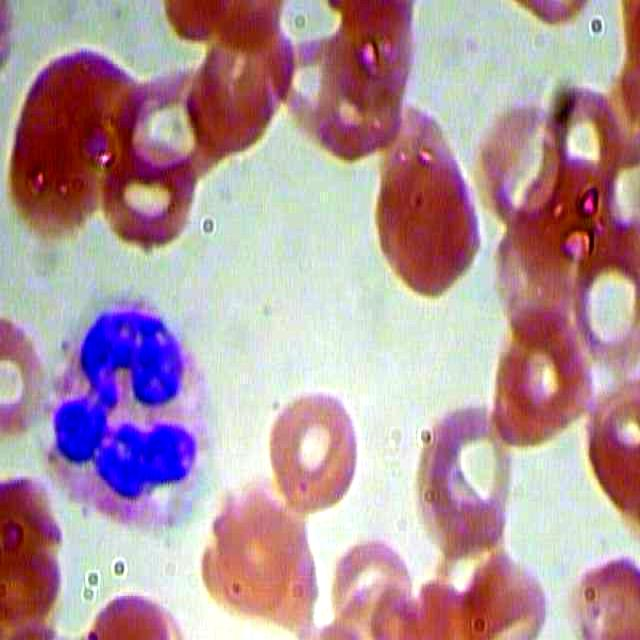RBC: (369, 103, 486, 297), (405, 384, 517, 560), (255, 377, 371, 523), (105, 45, 220, 187), (184, 16, 299, 157), (466, 76, 564, 232), (500, 286, 599, 434), (90, 131, 200, 252), (203, 487, 313, 608), (318, 528, 427, 640), (547, 64, 638, 192), (574, 213, 639, 375), (455, 538, 555, 640), (324, 536, 424, 637)
WBC: (31, 278, 238, 542)
